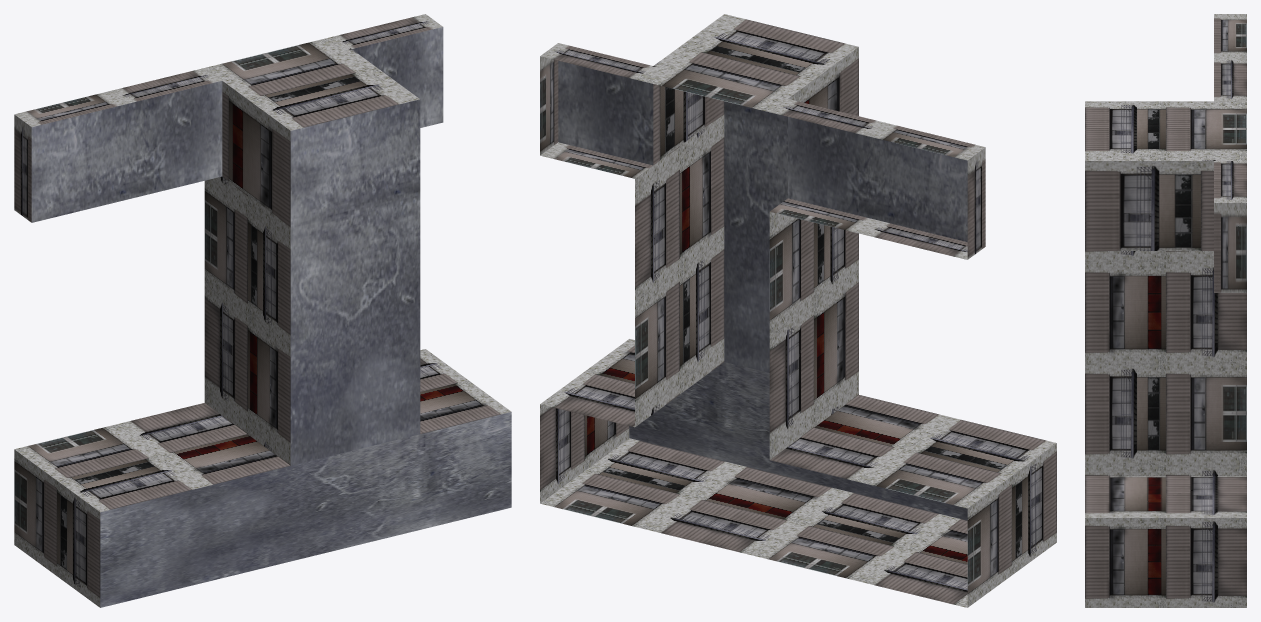
Rendered from urbanconc01_wtf.obj.
3 views of the same model, side by side, from view 1: azimuth 30°, elevation 25°; view 2: azimuth 150°, elevation 25°; view 3: azimuth 270°, elevation 25° (orthographic). The views are drawn at different scales.
Visible parts, largest first — view 1: group4, group3; view 2: group3, group4; view 3: group3.
Boxes of the visible parts, box(x1,y1,x2,y2) form: group4: box(31, 27, 511, 607); group3: box(14, 14, 511, 607); group3: box(540, 14, 1056, 607); group4: box(558, 61, 967, 520); group3: box(1085, 14, 1246, 607).
Size of the model in its own units: 660 by 660 by 239.
